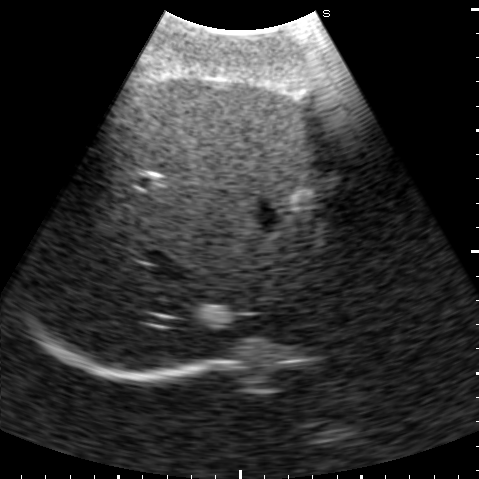S5: (112, 80, 327, 195)
S7: (43, 171, 155, 324)
S8: (104, 176, 369, 363)
Tumor: (197, 304, 234, 329), (289, 189, 311, 210)
